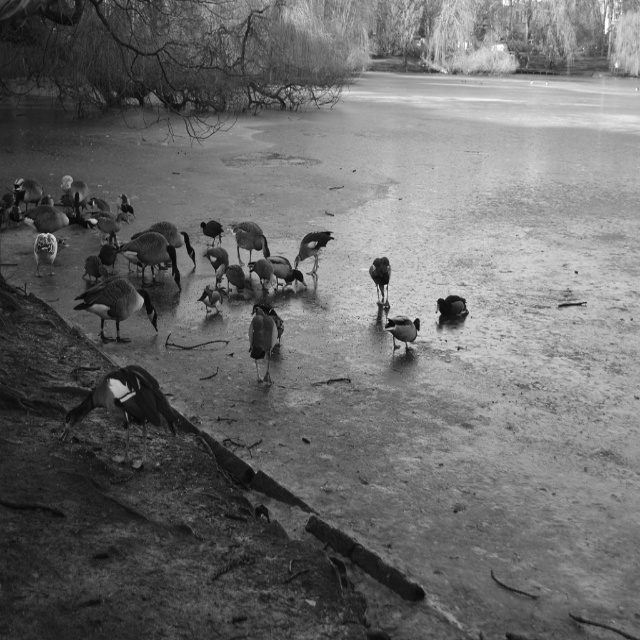Duck: (64, 363, 206, 471), (70, 264, 146, 332), (118, 227, 181, 289), (132, 222, 197, 268), (249, 302, 285, 384), (27, 190, 66, 242), (296, 229, 331, 286), (266, 248, 304, 295), (13, 177, 46, 224), (435, 294, 470, 331), (368, 250, 391, 306), (230, 221, 266, 256), (387, 316, 420, 354), (68, 189, 92, 238), (91, 208, 120, 245), (208, 247, 232, 291), (244, 254, 275, 288), (30, 233, 60, 268), (201, 285, 220, 320), (57, 170, 78, 201), (201, 221, 221, 250), (120, 193, 136, 224)
